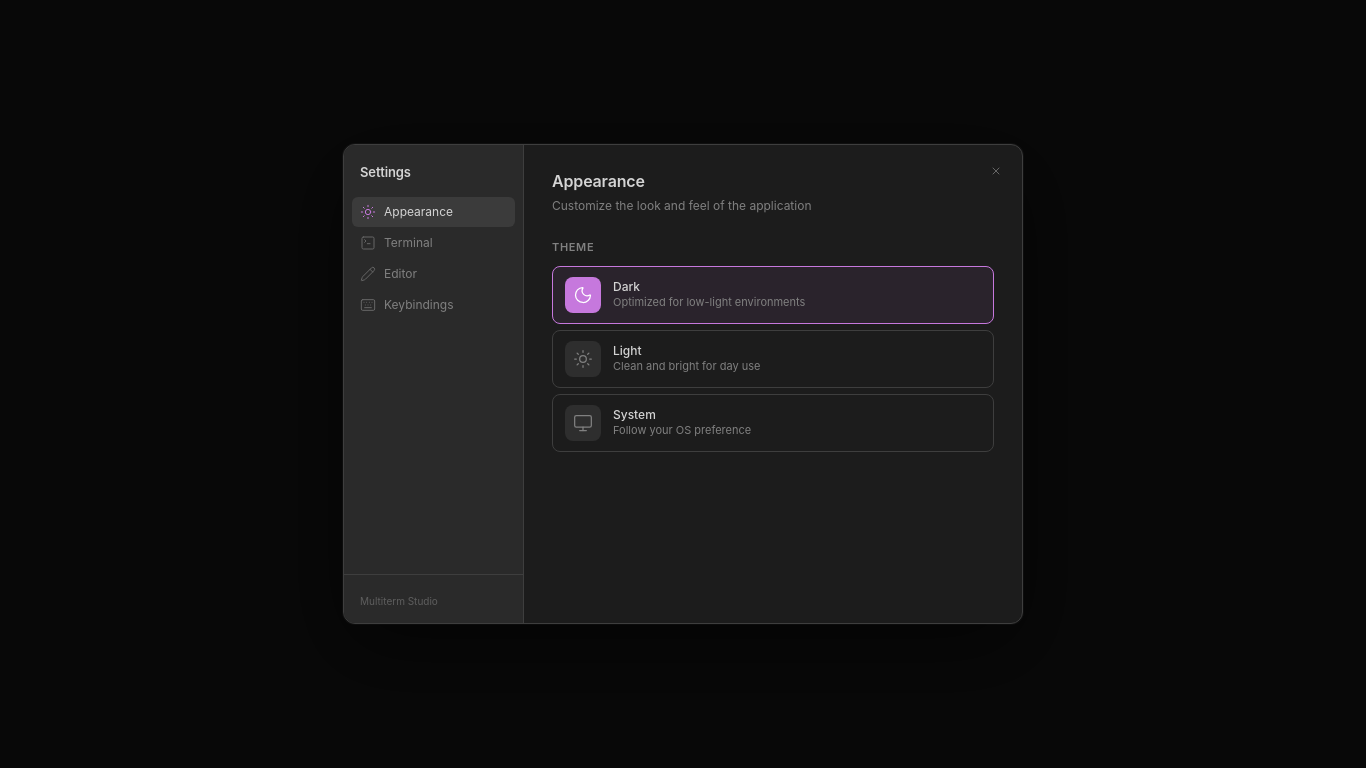
Test: SettingsPanel — Terminal tab › keybindings tab › lists the shortcuts instead of a "coming soon" placeholder
Click the button "Keybindings". click: (434, 304)
box: [352,290,515,320]
(page scrolled)
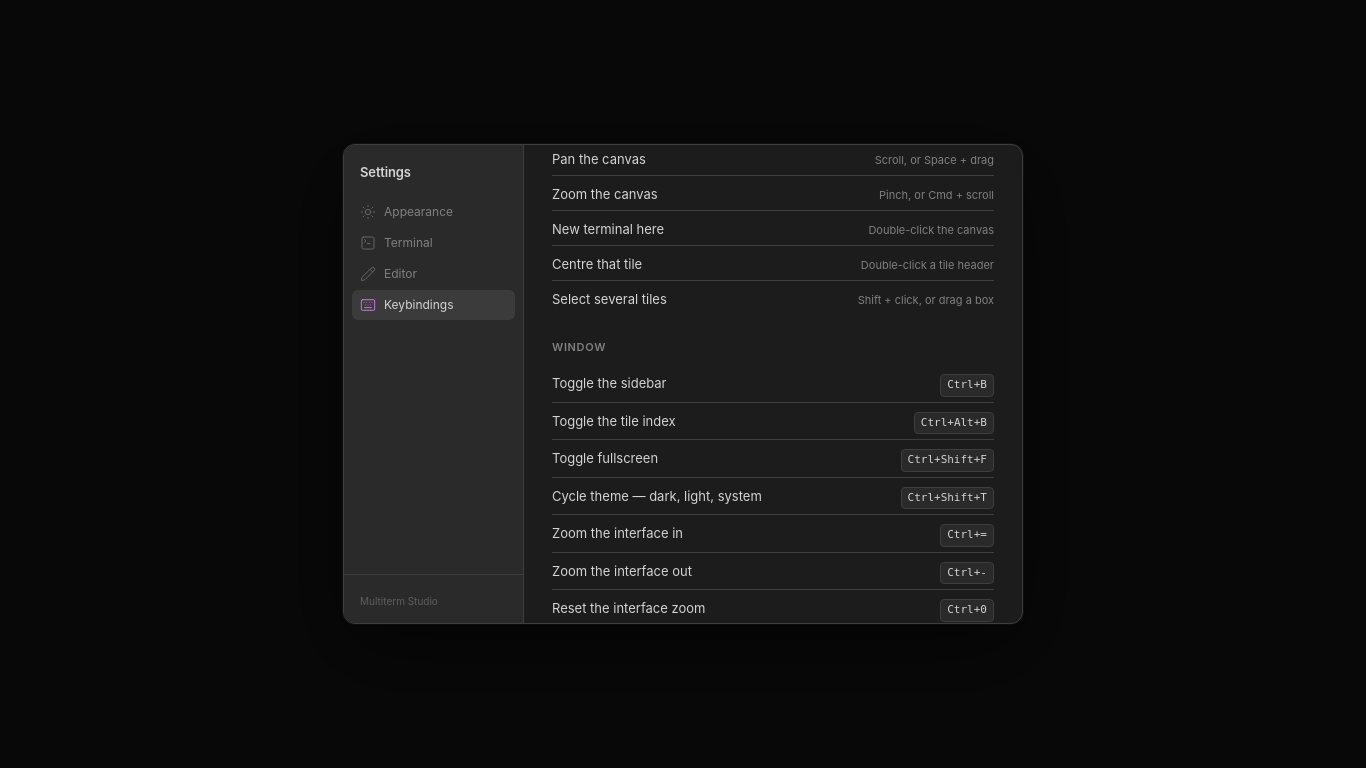
expect the text "Toggle the sidebar" is shown: met, box [552,375,666,391]
